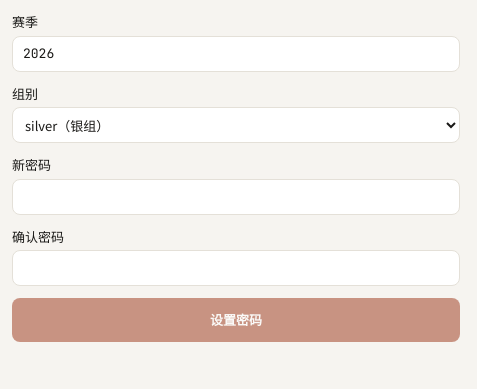
Test: SuperPasswordForm password confirmation › keeps submit disabled until both entries match
The image size is (477, 389).
Type "silver-pw" into the password field labelled "新密码" at (236, 196), box [12,178,460,214]
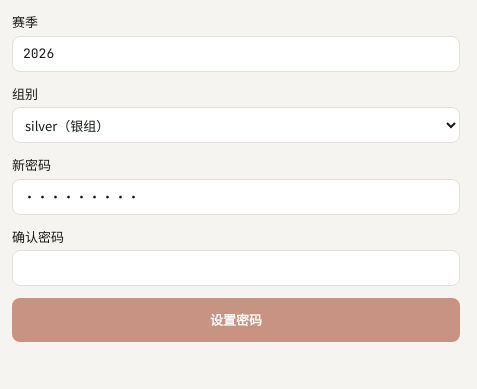
Type "silver-pX" into the password field labelled "确认密码" at (236, 268), box [12,250,460,286]
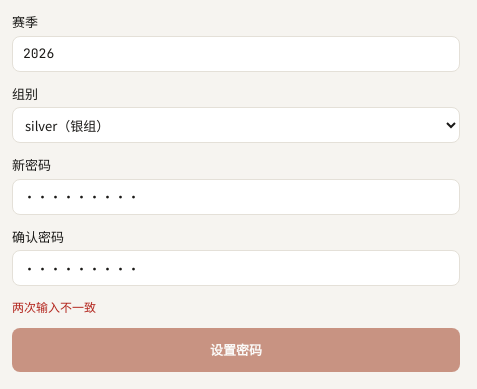
Expected: the button "设置密码" is disabled, [12,328,460,372]
Expected: the text "两次输入不一致" is shown, [12,298,96,315]
